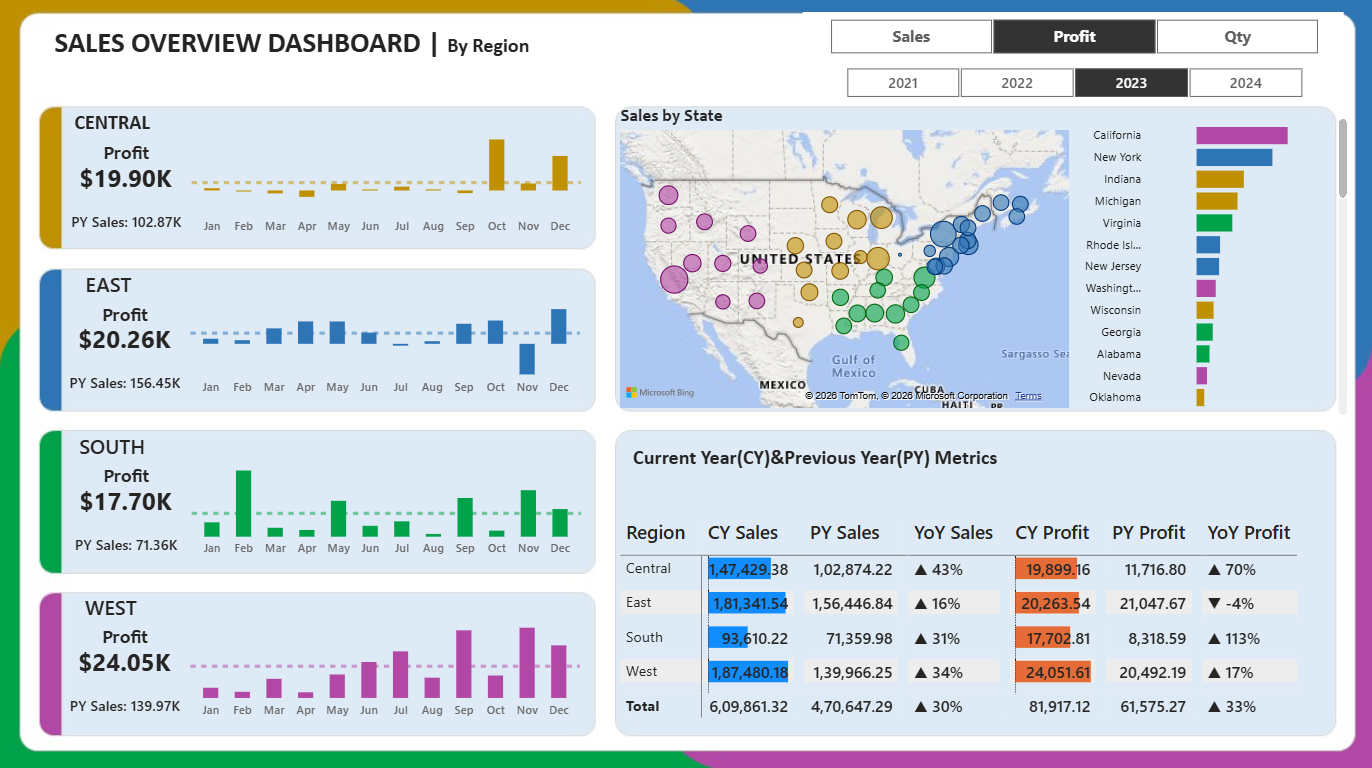

What the dashboard file says about the page in this screenshot:
{"tool":"powerbi","page":{"name":"Page 1","canvas":[1280,720],"ordinal":0},"visuals":[{"type":"slicer","fields":{"Values":["Select Metric.Select Metric"]},"box":[747.7,14,503.5,45.3],"z":0},{"type":"card","fields":{"Values":["Sales Data.Total Sales"]},"box":[61.6,153.5,112.8,32.6],"z":0,"group":"g1"},{"type":"card","fields":{"Values":["Sales Data.Total Sales"]},"box":[60.3,303.6,112.8,32.6],"z":0,"group":"g2"},{"type":"card","fields":{"Values":["Sales Data.Total Sales"]},"box":[61.6,453.7,112.8,32.6],"z":0,"group":"g3"},{"type":"card","fields":{"Values":["Sales Data.Total Sales"]},"box":[60.7,603.5,112.8,32.6],"z":0,"group":"g4"},{"type":"slicer","fields":{"Values":["Calendar Table.Year"]},"box":[762.8,59.3,473.3,40.7],"z":1000},{"type":"textbox","box":[43.9,100.2,122.1,38.4],"z":1000,"group":"g1"},{"type":"textbox","box":[42.6,250.3,122.1,38.4],"z":1000,"group":"g2"},{"type":"textbox","box":[43.9,400.4,122.1,38.4],"z":1000,"group":"g3"},{"type":"textbox","box":[43,550.2,122.1,38.4],"z":1000,"group":"g4"},{"type":"textbox","box":[11,20.6,524.2,49.4],"z":2000},{"type":"card","fields":{"Values":["Sales Data.Dynamic Title"]},"box":[76.7,129.1,83.7,34.9],"z":2000,"group":"g1"},{"type":"card","fields":{"Values":["Sales Data.Dynamic Title"]},"box":[75.4,279.2,83.7,34.9],"z":2000,"group":"g2"},{"type":"card","fields":{"Values":["Sales Data.Dynamic Title"]},"box":[76.7,429.3,83.7,34.9],"z":2000,"group":"g3"},{"type":"card","fields":{"Values":["Sales Data.Dynamic Title"]},"box":[75.8,579.1,83.7,34.9],"z":2000,"group":"g4"},{"type":"group","id":"g1","title":"Group 1","box":[30.2,100,516.3,137.2],"z":3000},{"type":"card","fields":{"Values":["Sales Data.PY KPI Sales"]},"box":[30.2,186,176.7,51.2],"z":3000,"group":"g1"},{"type":"card","fields":{"Values":["Sales Data.PY KPI Sales"]},"box":[28.9,336.1,176.7,51.2],"z":3000,"group":"g2"},{"type":"card","fields":{"Values":["Sales Data.PY KPI Sales"]},"box":[30.2,486.2,176.7,51.2],"z":3000,"group":"g3"},{"type":"card","fields":{"Values":["Sales Data.PY KPI Sales"]},"box":[29.3,636,176.7,51.2],"z":3000,"group":"g4"},{"type":"clusteredColumnChart","fields":{"Y":["Sales Data.Total Sales"],"Category":["Calendar Table.Month"]},"box":[174.4,100,372.1,130.2],"z":4000,"group":"g1"},{"type":"group","id":"g2","title":"Group 1","box":[28.9,250.1,517.3,137.2],"z":4000},{"type":"clusteredColumnChart","fields":{"Y":["Sales Data.Total Sales"],"Category":["Calendar Table.Month"]},"box":[173.1,250.1,372.1,130.2],"z":4000,"group":"g2"},{"type":"clusteredColumnChart","fields":{"Y":["Sales Data.Total Sales"],"Category":["Calendar Table.Month"]},"box":[174.4,400.2,372.1,130.2],"z":4000,"group":"g3"},{"type":"clusteredColumnChart","fields":{"Y":["Sales Data.Total Sales"],"Category":["Calendar Table.Month"]},"box":[173.5,550,372.1,130.2],"z":4000,"group":"g4"},{"type":"group","id":"g3","title":"Group 1","box":[30.2,400.2,517.4,137.2],"z":5000},{"type":"group","id":"g4","title":"Group 1","box":[29.3,550,517.4,137.2],"z":6000},{"type":"map","title":"Sales by State","fields":{"Size":["Sales Data.Total Sales"],"Category":["Sales Data.State/Province"],"Series":["Sales Data.Region"]},"box":[573.3,100,426.7,287.2],"z":7000},{"type":"barChart","fields":{"Y":["Sales Data.Total Sales"],"Category":["Sales Data.State/Province"],"Series":["Sales Data.Region"]},"box":[991.9,100,267.4,294.2],"z":8000},{"type":"pivotTable","fields":{"Rows":["Sales Data.Region"],"Values":["Sales Data.CY Sales","Sales Data.PY Sales","Sales Data.YoY Sales","Sales Data.CY Profit","Sales Data.PY Profit","Sales Data.YoY Profit"]},"box":[573.8,478.8,662.5,200],"z":9000},{"type":"textbox","box":[585,411.2,433.8,58.8],"z":10000}]}

Visuals, with their boxes in screenshot pixels (x1, y1, x2, y2), scaled from the page's 1280x720 canvas onto the 1372x768 screenshot:
slicer - Select Metric.Select Metric: 801,15,1341,63
card - Sales Data.Total Sales: 66,164,187,199
card - Sales Data.Total Sales: 65,324,186,359
card - Sales Data.Total Sales: 66,484,187,519
card - Sales Data.Total Sales: 65,644,186,679
slicer - Calendar Table.Year: 818,63,1325,107
textbox: 47,107,178,148
textbox: 46,267,177,308
textbox: 47,427,178,468
textbox: 46,587,177,628
textbox: 12,22,574,75
card - Sales Data.Dynamic Title: 82,138,172,175
card - Sales Data.Dynamic Title: 81,298,171,335
card - Sales Data.Dynamic Title: 82,458,172,495
card - Sales Data.Dynamic Title: 81,618,171,655
"Group 1" group: 32,107,586,253
card - Sales Data.PY KPI Sales: 32,198,222,253
card - Sales Data.PY KPI Sales: 31,359,220,413
card - Sales Data.PY KPI Sales: 32,519,222,573
card - Sales Data.PY KPI Sales: 31,678,221,733
clusteredColumnChart - Sales Data.Total Sales x Calendar Table.Month: 187,107,586,246
"Group 1" group: 31,267,585,413
clusteredColumnChart - Sales Data.Total Sales x Calendar Table.Month: 186,267,584,406
clusteredColumnChart - Sales Data.Total Sales x Calendar Table.Month: 187,427,586,566
clusteredColumnChart - Sales Data.Total Sales x Calendar Table.Month: 186,587,585,726
"Group 1" group: 32,427,587,573
"Group 1" group: 31,587,586,733
"Sales by State" map: 615,107,1072,413
barChart - Sales Data.Total Sales x Sales Data.State/Province: 1063,107,1350,420
pivotTable - Sales Data.Region x Sales Data.CY Sales: 615,511,1325,724
textbox: 627,439,1092,501
